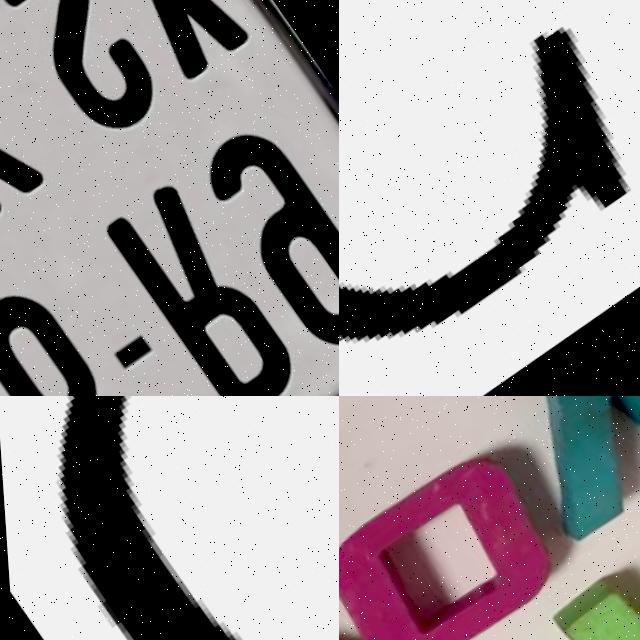6: (0, 277, 165, 396)
9: (181, 117, 339, 381)
C: (339, 31, 625, 349)
F: (536, 494, 640, 640)
K: (0, 0, 47, 239)
O: (50, 396, 339, 640), (339, 437, 584, 640)
R: (95, 181, 304, 396)
S: (0, 0, 178, 163)
V: (476, 396, 640, 560)
Y: (51, 0, 251, 98)
